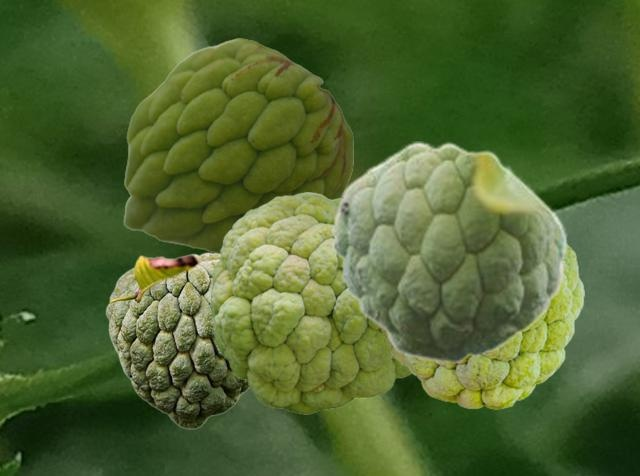atis: (331, 141, 568, 362), (123, 38, 352, 256), (210, 192, 412, 413), (381, 243, 583, 408), (105, 252, 249, 428)
